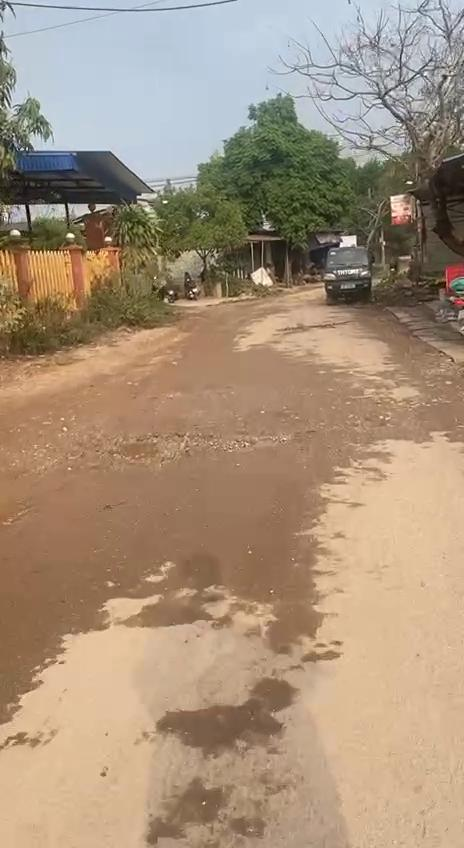pothole: (102, 432, 292, 468)
